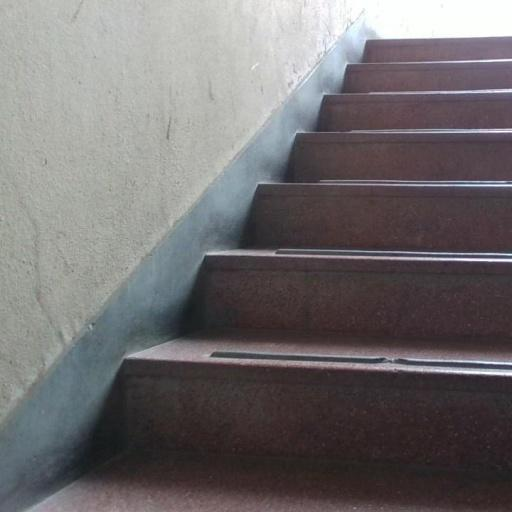stairs: (37, 38, 511, 511)
